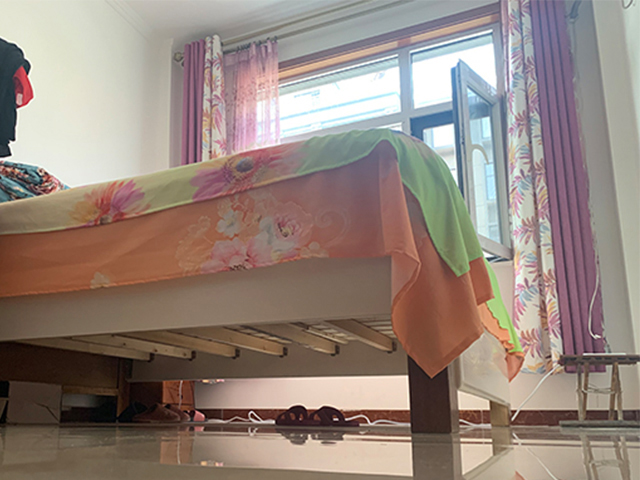bed: (2, 127, 525, 436)
curtain: (502, 1, 606, 378)
slippers: (113, 402, 175, 424), (310, 405, 362, 430), (275, 405, 330, 427)
stool: (559, 352, 640, 430)
wire: (507, 373, 561, 430), (205, 407, 273, 427)
